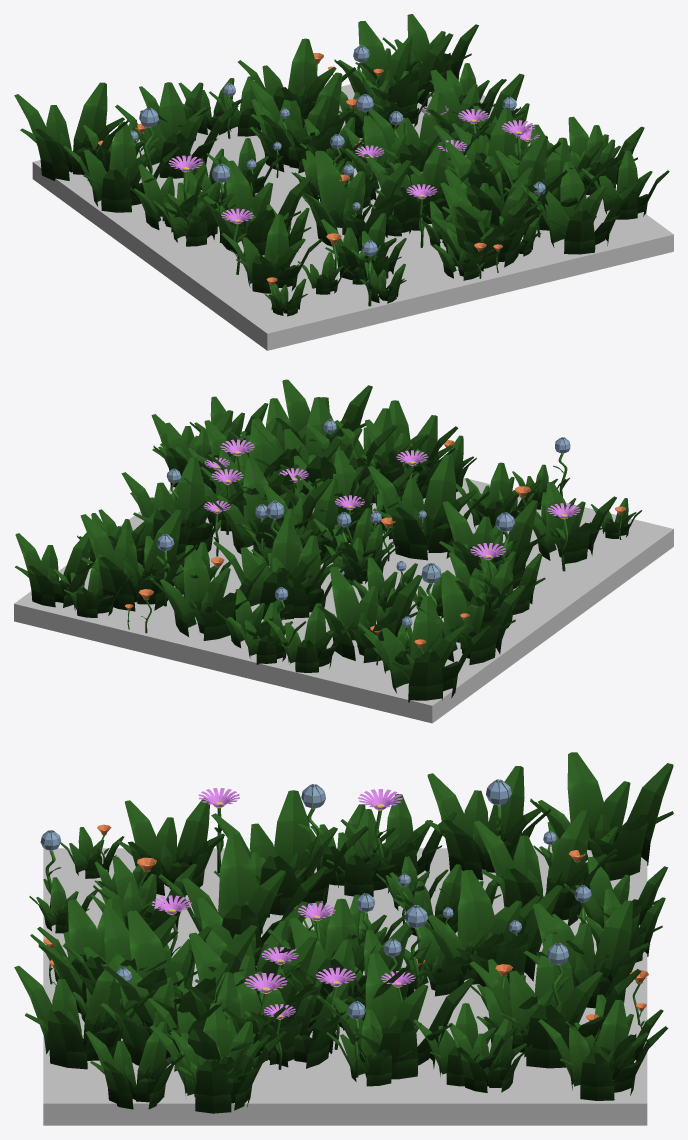
File: vegetacion 2.fbx
The picture shows the model from 3 angles, top to bottom: view 1: azimuth 30°, elevation 25°; view 2: azimuth 150°, elevation 25°; view 3: azimuth 270°, elevation 25°; orthographic projection. The views are drawn at different scales.
Visible parts, largest first — view 1: Terrain .006, hierbajos.018, hierbajos.028, hierbajos.022, hierbajos.041, hierbajos.002, hierbajos.054, hierbajos.016, hierbajos.040, hierbajos.017, hierbajos.004, hierbajos.038 (+42 smaller); view 2: Terrain .006, hierbajos.028, hierbajos.018, hierbajos.041, hierbajos.038, hierbajos.054, hierbajos.042, hierbajos.040, hierbajos.002, hierbajos.016, hierbajos.044, hierbajos.070 (+39 smaller); view 3: Terrain .006, hierbajos.018, hierbajos.041, hierbajos.022, hierbajos.042, hierbajos.054, hierbajos.016, hierbajos.040, hierbajos.028, hierbajos.002, hierbajos.070, hierbajos.004 (+50 smaller).
Part boxes in pixels (<box>): Terrain .006: <box>32,77,673,350</box>; hierbajos.018: <box>14,82,128,180</box>; hierbajos.028: <box>299,150,411,251</box>; hierbajos.022: <box>519,161,638,254</box>; hierbajos.041: <box>334,21,453,115</box>; hierbajos.002: <box>63,121,180,212</box>; hierbajos.054: <box>115,82,238,178</box>; hierbajos.016: <box>197,160,312,256</box>; hierbajos.040: <box>249,72,355,165</box>; hierbajos.017: <box>221,214,322,293</box>; hierbajos.004: <box>444,135,567,238</box>; hierbajos.038: <box>238,38,355,128</box>; Terrain .006: <box>14,478,673,723</box>; hierbajos.028: <box>368,454,489,560</box>; hierbajos.018: <box>357,596,491,702</box>; hierbajos.041: <box>80,509,197,611</box>; hierbajos.038: <box>150,545,267,640</box>; hierbajos.054: <box>315,567,421,662</box>; hierbajos.042: <box>121,457,244,554</box>; hierbajos.040: <box>213,518,342,619</box>; hierbajos.002: <box>416,572,525,665</box>; hierbajos.016: <box>439,500,545,592</box>; hierbajos.044: <box>205,458,332,556</box>; hierbajos.070: <box>15,532,98,607</box>; Terrain .006: <box>43,848,647,1125</box>; hierbajos.018: <box>530,752,673,880</box>; hierbajos.041: <box>469,933,641,1068</box>; hierbajos.022: <box>14,953,155,1069</box>; hierbajos.042: <box>317,953,474,1079</box>; hierbajos.054: <box>474,810,617,925</box>; hierbajos.016: <box>211,790,368,915</box>; hierbajos.040: <box>424,870,562,987</box>; hierbajos.028: <box>158,834,328,966</box>; hierbajos.002: <box>425,766,550,880</box>; hierbajos.070: <box>538,999,668,1100</box>; hierbajos.004: <box>101,910,257,1034</box>.
Bounding box in the file's own units: 231 × 46.15 × 219.
